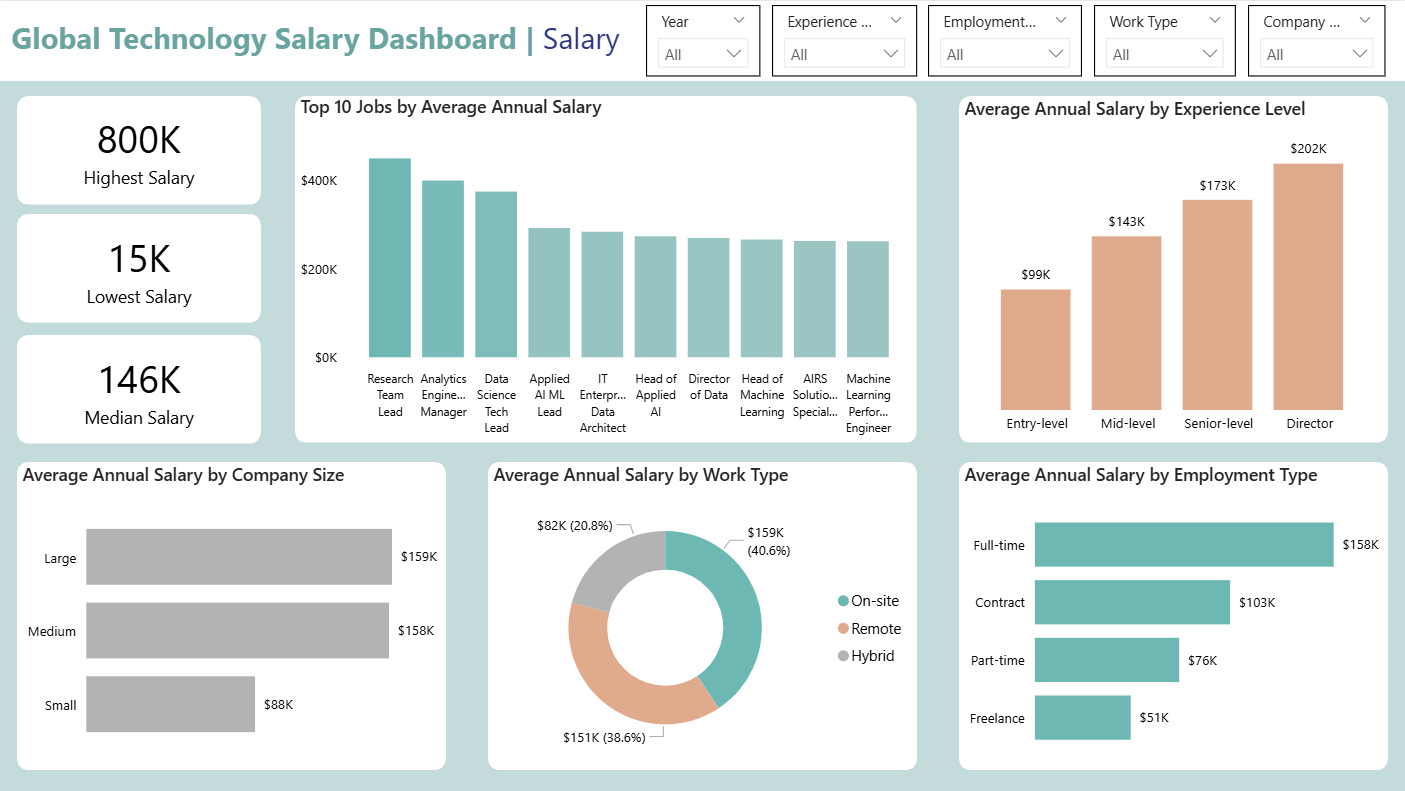

Layout of this report page (visuals, bound fields, positions):
{"tool":"powerbi","page":{"name":"Salary","canvas":[1280,720],"ordinal":2},"visuals":[{"type":"shape","box":[0,0,1279.5,72.7],"z":0},{"type":"shape","box":[17.1,86.7,221.7,98.8],"z":1000},{"type":"shape","box":[873.8,86.7,390,315.5],"z":2000},{"type":"shape","box":[270.1,86.7,565.4,315.5],"z":3000},{"type":"shape","box":[17.1,419.3,390,280.2],"z":4000},{"type":"shape","box":[445.5,419.3,390,280.2],"z":5000},{"type":"shape","box":[873.8,419.3,390,280.2],"z":6000},{"type":"shape","box":[17.1,303.4,221.7,98.8],"z":7000},{"type":"shape","box":[17.1,193.5,221.7,98.8],"z":8000},{"type":"clusteredColumnChart","title":"Top 10 Jobs by Average Annual Salary","fields":{"Category":["global_tech_salary.Jobs"],"Y":["global_tech_salary.Average Annual Salary"]},"box":[270.4,84.2,564.8,318.3],"z":9000},{"type":"clusteredColumnChart","title":"Average Annual Salary by Experience Level","fields":{"Y":["global_tech_salary.Average Annual Salary"],"Category":["global_tech_salary.Experience_Level"]},"box":[873.8,86.7,390,315.5],"z":10000},{"type":"card","fields":{"Values":["global_tech_salary.Highest Salary"]},"box":[17.1,84.7,221.7,100.8],"z":11000},{"type":"card","fields":{"Values":["global_tech_salary.Lowest Salary"]},"box":[17.1,192.5,221.7,100.8],"z":12000},{"type":"card","fields":{"Values":["global_tech_salary.Median Salary"]},"box":[17.1,302.4,221.7,100.8],"z":13000},{"type":"clusteredBarChart","title":"Average Annual Salary by Employment Type","fields":{"Category":["global_tech_salary.Employment_Type"],"Y":["global_tech_salary.Average Annual Salary"]},"box":[873.8,419.3,390,280.2],"z":14000},{"type":"clusteredBarChart","title":"Average Annual Salary by Company Size","fields":{"Y":["global_tech_salary.Average Annual Salary"],"Category":["global_tech_salary.Company_Size"]},"box":[16.8,419.4,390.1,280.2],"z":15000},{"type":"donutChart","title":"Average Annual Salary by Work Type","fields":{"Category":["global_tech_salary.Work_Type"],"Y":["global_tech_salary.Average Annual Salary"]},"box":[445.1,419.4,390.1,280.2],"z":16000},{"type":"textbox","box":[7.3,10,571.8,52.7],"z":17000},{"type":"slicer","fields":{"Values":["global_tech_salary.Work_Year"]},"box":[589.1,3.6,103.6,65.5],"z":18000},{"type":"slicer","fields":{"Values":["global_tech_salary.Experience_Level"]},"box":[703.4,3.6,131.8,65.5],"z":19000},{"type":"slicer","fields":{"Values":["global_tech_salary.Employment_Type"]},"box":[845.9,3.6,140,65.5],"z":20000},{"type":"slicer","fields":{"Values":["global_tech_salary.Work_Type"]},"box":[996.6,3.6,129.1,65.5],"z":21000},{"type":"slicer","fields":{"Values":["global_tech_salary.Company_Size"]},"box":[1136.4,3.6,125.5,65.5],"z":22000}]}

Visuals, with their boxes in screenshot pixels (x1, y1, x2, y2), scaled from the page's 1280x720 canvas onto the 1405x791 screenshot:
shape: x1=0 y1=0 x2=1404 y2=80
shape: x1=19 y1=95 x2=262 y2=204
shape: x1=959 y1=95 x2=1387 y2=442
shape: x1=296 y1=95 x2=917 y2=442
shape: x1=19 y1=461 x2=447 y2=768
shape: x1=489 y1=461 x2=917 y2=768
shape: x1=959 y1=461 x2=1387 y2=768
shape: x1=19 y1=333 x2=262 y2=442
shape: x1=19 y1=213 x2=262 y2=321
"Top 10 Jobs by Average Annual Salary" clusteredColumnChart: x1=297 y1=93 x2=917 y2=442
"Average Annual Salary by Experience Level" clusteredColumnChart: x1=959 y1=95 x2=1387 y2=442
card - global_tech_salary.Highest Salary: x1=19 y1=93 x2=262 y2=204
card - global_tech_salary.Lowest Salary: x1=19 y1=211 x2=262 y2=322
card - global_tech_salary.Median Salary: x1=19 y1=332 x2=262 y2=443
"Average Annual Salary by Employment Type" clusteredBarChart: x1=959 y1=461 x2=1387 y2=768
"Average Annual Salary by Company Size" clusteredBarChart: x1=18 y1=461 x2=447 y2=769
"Average Annual Salary by Work Type" donutChart: x1=489 y1=461 x2=917 y2=769
textbox: x1=8 y1=11 x2=636 y2=69
slicer - global_tech_salary.Work_Year: x1=647 y1=4 x2=760 y2=76
slicer - global_tech_salary.Experience_Level: x1=772 y1=4 x2=917 y2=76
slicer - global_tech_salary.Employment_Type: x1=929 y1=4 x2=1082 y2=76
slicer - global_tech_salary.Work_Type: x1=1094 y1=4 x2=1236 y2=76
slicer - global_tech_salary.Company_Size: x1=1247 y1=4 x2=1385 y2=76
